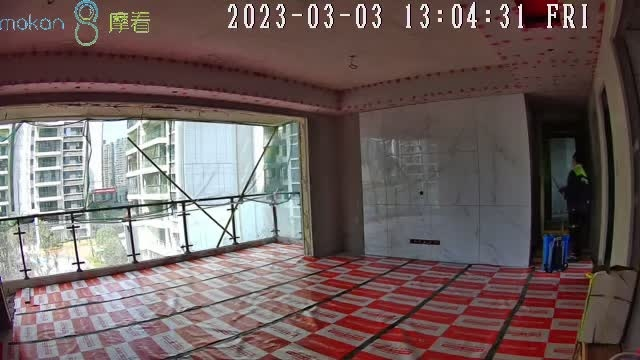people: (559, 153, 589, 260)
window: (2, 122, 302, 282)
